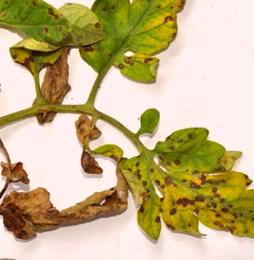Tomato Septoria leaf spot: (123, 129, 254, 251), (71, 0, 197, 89), (0, 0, 109, 66)
